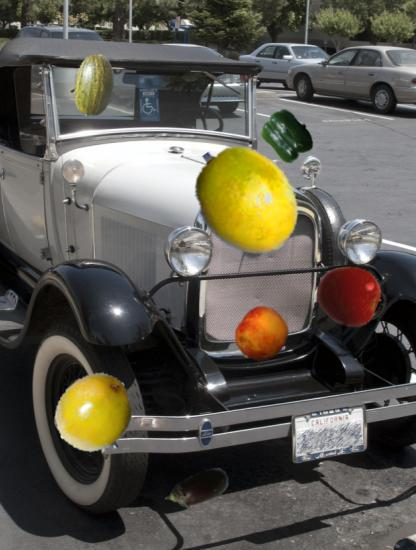Eggplant: (163, 456, 232, 525)
Maracuja: (185, 139, 306, 260), (55, 374, 138, 457)
Melon: (64, 54, 127, 117)
Peach: (234, 306, 291, 363)
Pepper: (259, 109, 314, 164)
Tomato: (316, 263, 381, 328)
